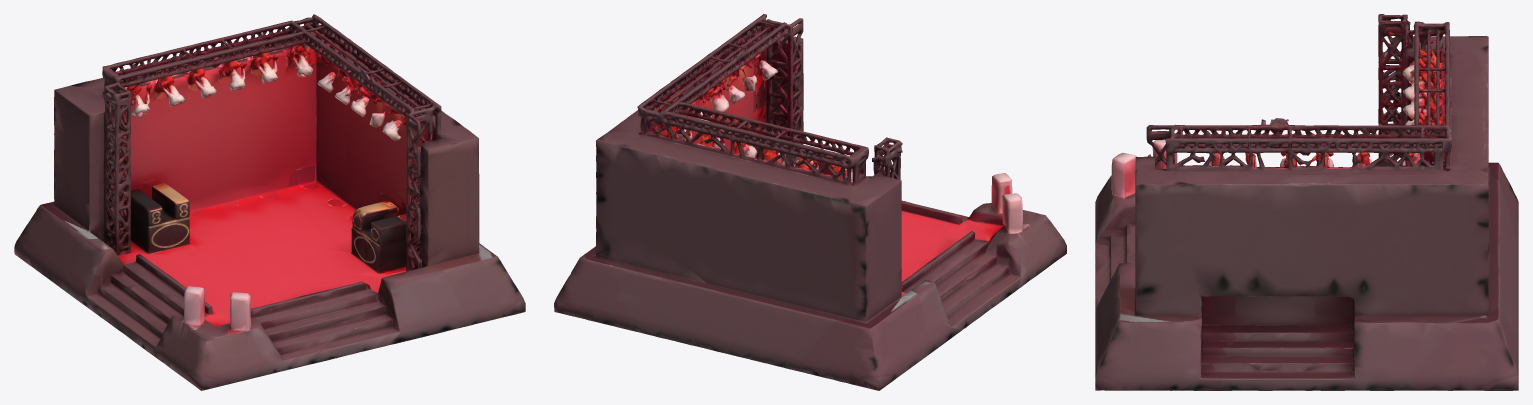
Rendered from decoration.glb.
The picture shows the model from 3 angles, left to right: view 1: azimuth 30°, elevation 25°; view 2: azimuth 150°, elevation 25°; view 3: azimuth 270°, elevation 25°; orthographic projection. The views are drawn at different scales.
Bounding box in the file's own units: 1.91 × 1.14 × 1.91.
Materials: 1 (1 with a texture image).
